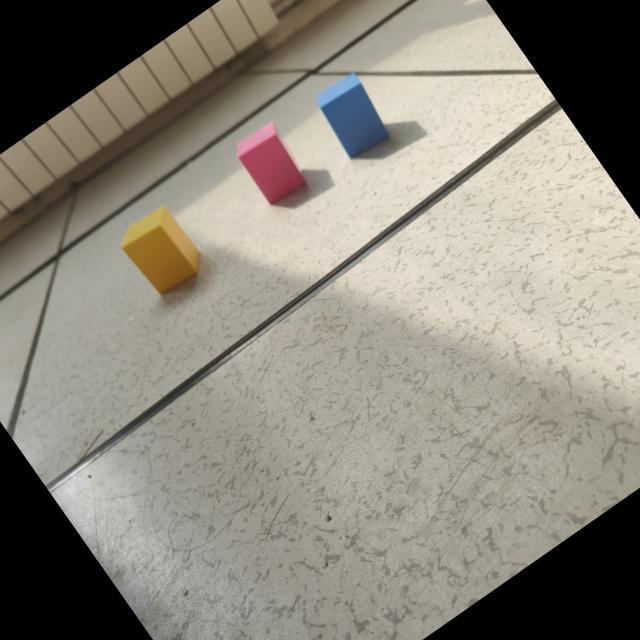blue: (317, 74, 391, 159)
pink: (236, 121, 308, 207)
yellow: (121, 205, 202, 296)
